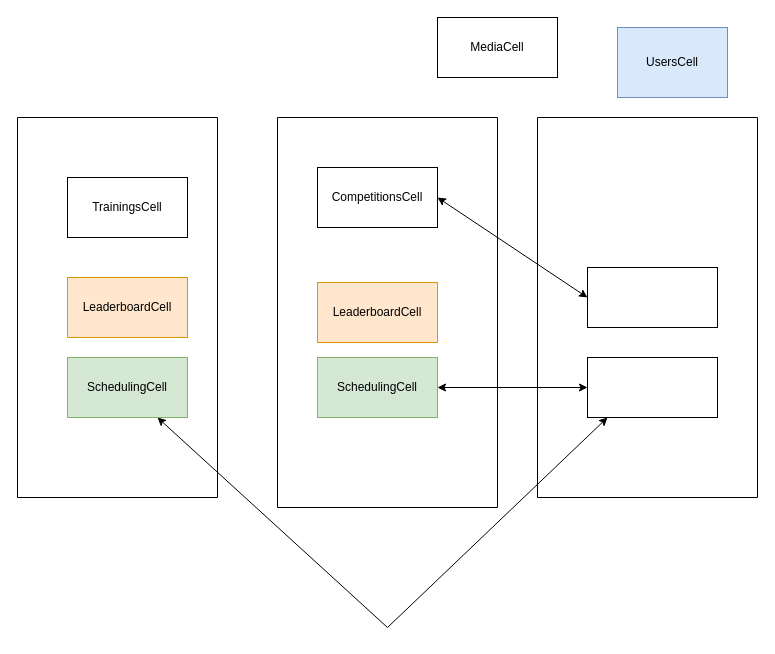
Some shapes in this 775 by 654 pixel diagram are drawn without their labels. The shapes that lost their labels are listed below. From the top down, each one's centre as x and y in pixels, then its label:
At point 652,297: "PaymentsCell".
At point 652,387: "NotificationsCell".
